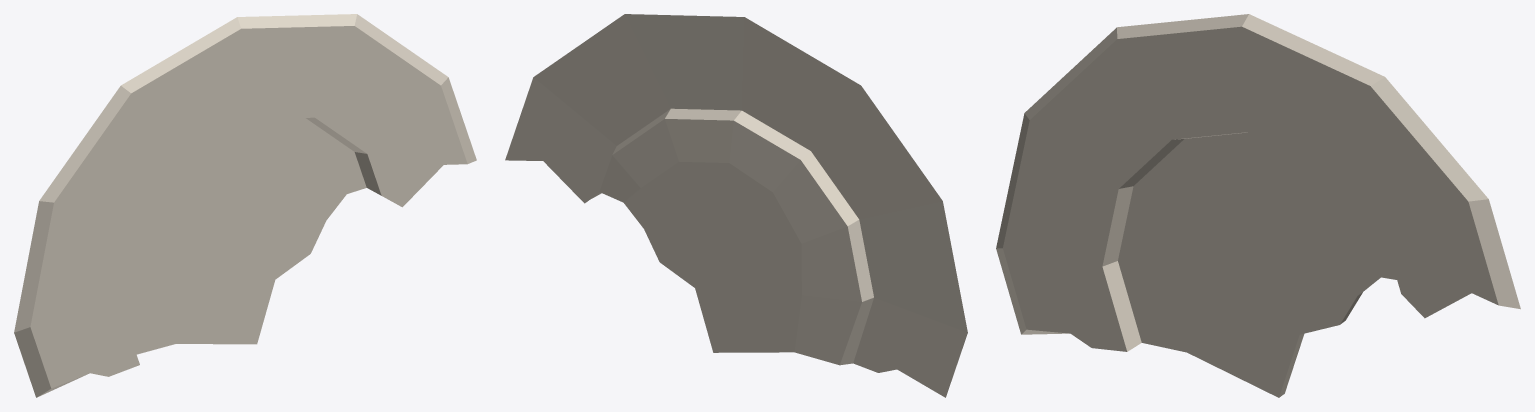
The model's file is Trash_Plate_00.fbx.
3 views of the same model, side by side, from view 1: azimuth 30°, elevation 25°; view 2: azimuth 150°, elevation 25°; view 3: azimuth 330°, elevation 25° (orthographic). The views are drawn at different scales.
Visible parts, largest first — view 1: Piring_00; view 2: Piring_00; view 3: Piring_00.
Part boxes in pixels (bbox=[...]): Piring_00: bbox=[14, 14, 476, 397]; Piring_00: bbox=[505, 14, 967, 397]; Piring_00: bbox=[996, 14, 1520, 397].
Bounding box in the file's own units: 20.12 × 13.93 × 1.02.
